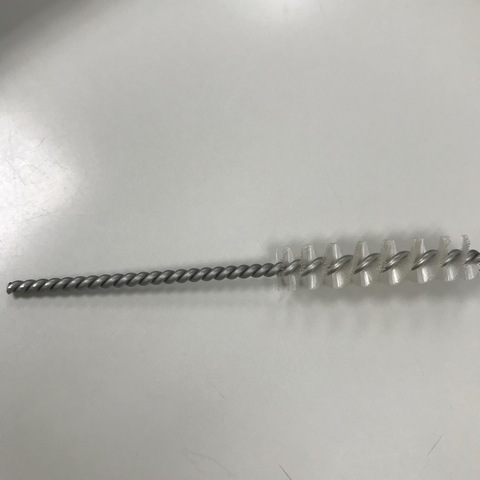Twist Brush-B: (7, 236, 480, 299)
